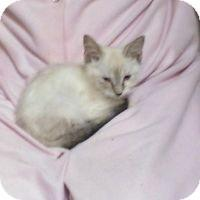siamese: (79, 30, 149, 107)
